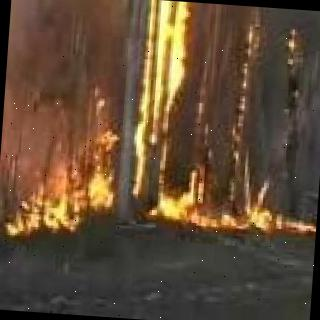fire: (134, 0, 197, 212), (8, 175, 112, 249), (192, 180, 312, 241)
